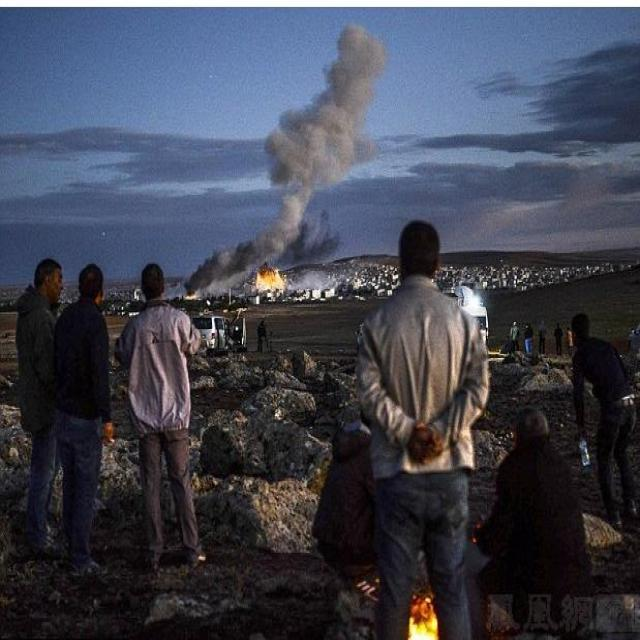Smoke: (176, 22, 384, 292)
